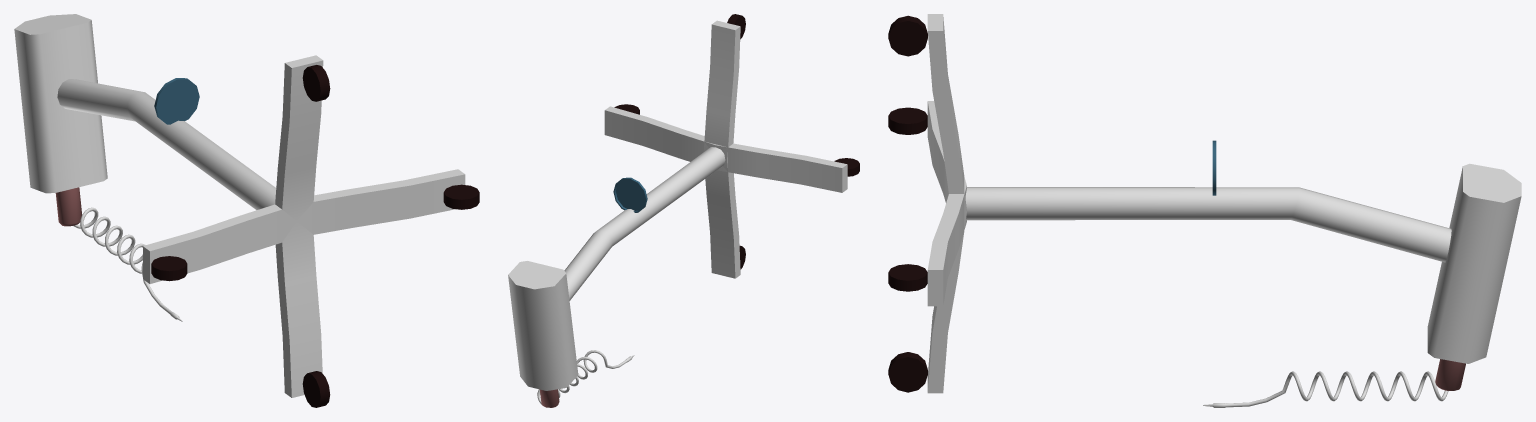
The picture shows the model from 3 angles, left to right: view 1: azimuth 30°, elevation 25°; view 2: azimuth 150°, elevation 25°; view 3: azimuth 270°, elevation 25°; orthographic projection. The views are drawn at different scales.
Visible parts, largest first — view 1: Circle; view 2: Circle; view 3: Circle.
Part boxes in pixels (x1,y1,x2,y2): Circle: [14, 14, 479, 407]; Circle: [508, 14, 859, 407]; Circle: [888, 14, 1521, 407].
Size of the model in its own units: 91.02 by 95.42 by 141.
